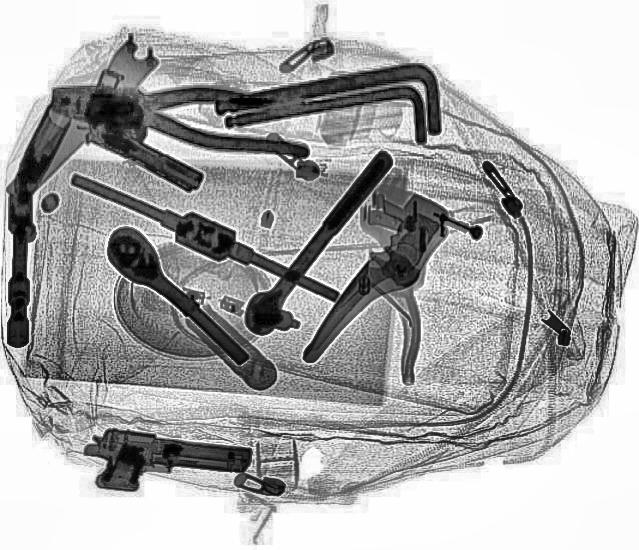Gun: (74, 425, 254, 505)
Pliers: (44, 66, 318, 158)
